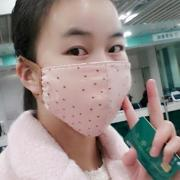OK: (33, 10, 133, 138)
